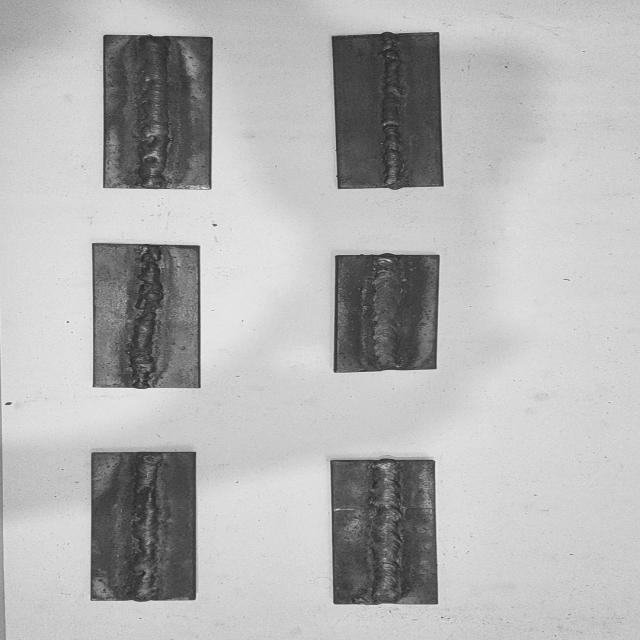Welding Line: (130, 453, 162, 598), (140, 36, 170, 190), (371, 462, 402, 604), (129, 245, 158, 386), (379, 35, 405, 187), (374, 256, 402, 370)
Workpiece: (330, 29, 448, 190), (98, 33, 215, 191), (86, 449, 200, 604), (90, 242, 204, 391), (328, 457, 441, 607), (331, 252, 444, 375)
